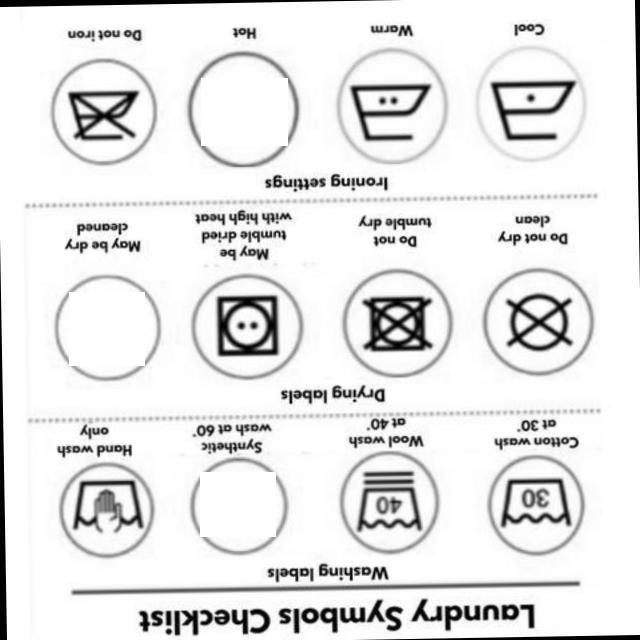30C: (496, 476, 574, 532)
40C: (350, 465, 424, 537)
DN_dry_clean: (500, 291, 578, 354)
DN_iron: (63, 84, 142, 146)
DN_tumble_dry: (357, 288, 435, 356)
hand_wash: (64, 476, 148, 536)
iron_low: (484, 75, 580, 146)
iron_medium: (346, 76, 436, 145)
tumble_dry_medium: (212, 290, 282, 359)
